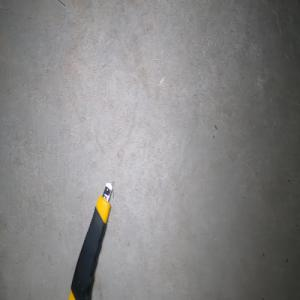Cutter: (67, 181, 113, 300)
